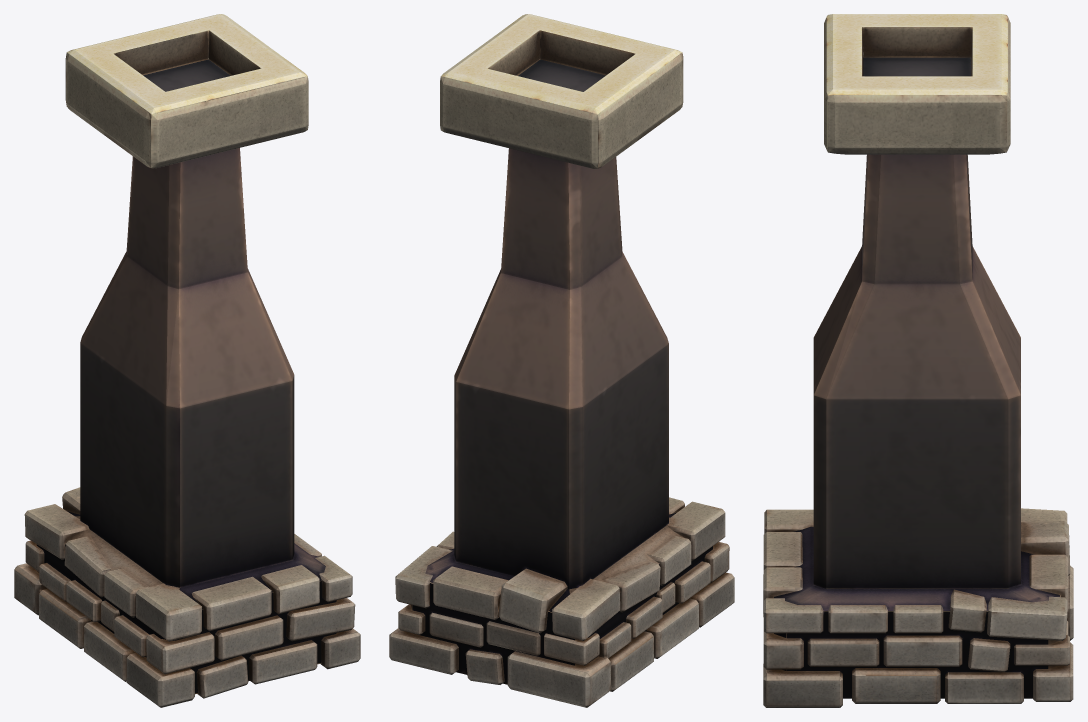
Rendered from Chimney.dae.
3 views of the same model, side by side, from view 1: azimuth 30°, elevation 25°; view 2: azimuth 150°, elevation 25°; view 3: azimuth 270°, elevation 25° (orthographic). The views are drawn at different scales.
Visible parts, largest first — view 1: Cube_296; view 2: Cube_296; view 3: Cube_296.
Boxes of the visible parts, x1,y1,x2,y2 form: Cube_296: (14, 14, 360, 707); Cube_296: (389, 14, 734, 707); Cube_296: (763, 14, 1073, 707).
Bounding box in the file's own units: 1.66 × 2.08 × 4.47.
Materials: 1 (1 with a texture image).
